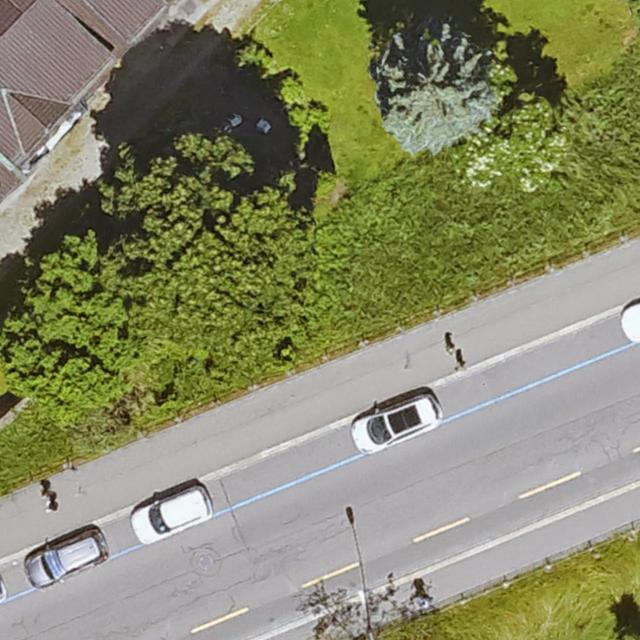tree: (96, 136, 318, 365), (2, 247, 135, 413), (380, 23, 514, 153)
